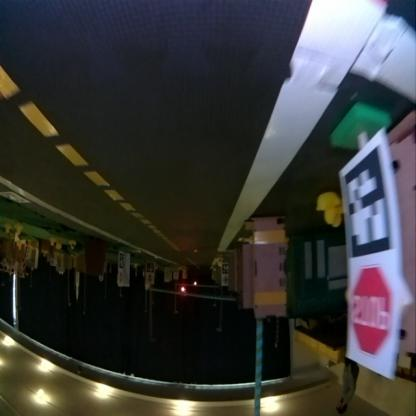Duckie: (315, 194, 336, 224), (13, 223, 22, 235), (68, 241, 76, 249), (50, 238, 56, 246), (3, 225, 9, 233), (16, 242, 22, 250), (57, 242, 61, 249)
QR code: (338, 139, 396, 259), (118, 254, 124, 270), (146, 263, 154, 273), (222, 264, 228, 274)
Signal sign: (117, 270, 123, 286), (146, 274, 154, 284)
Stop sign: (349, 268, 396, 365)
Traffic light: (180, 288, 186, 294)
